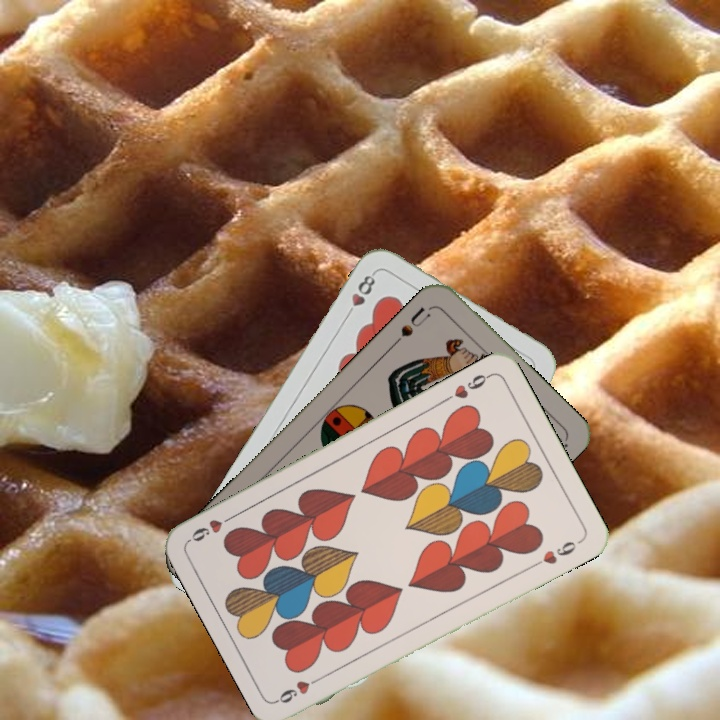H8: (341, 268, 378, 321)
H9: (273, 671, 328, 706), (440, 369, 494, 404)
SU: (389, 302, 435, 349)
